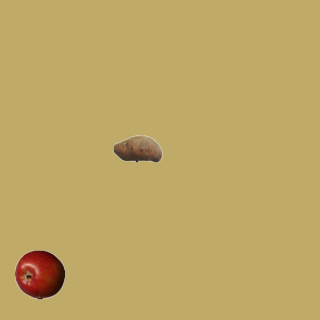Apple Braeburn: (14, 249, 64, 299)
Potato Sweet: (112, 123, 162, 173)
